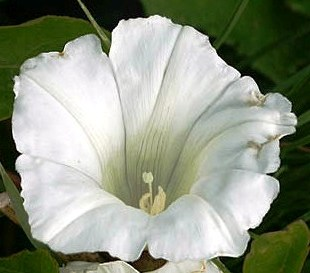haagwinde: (9, 10, 300, 272)
